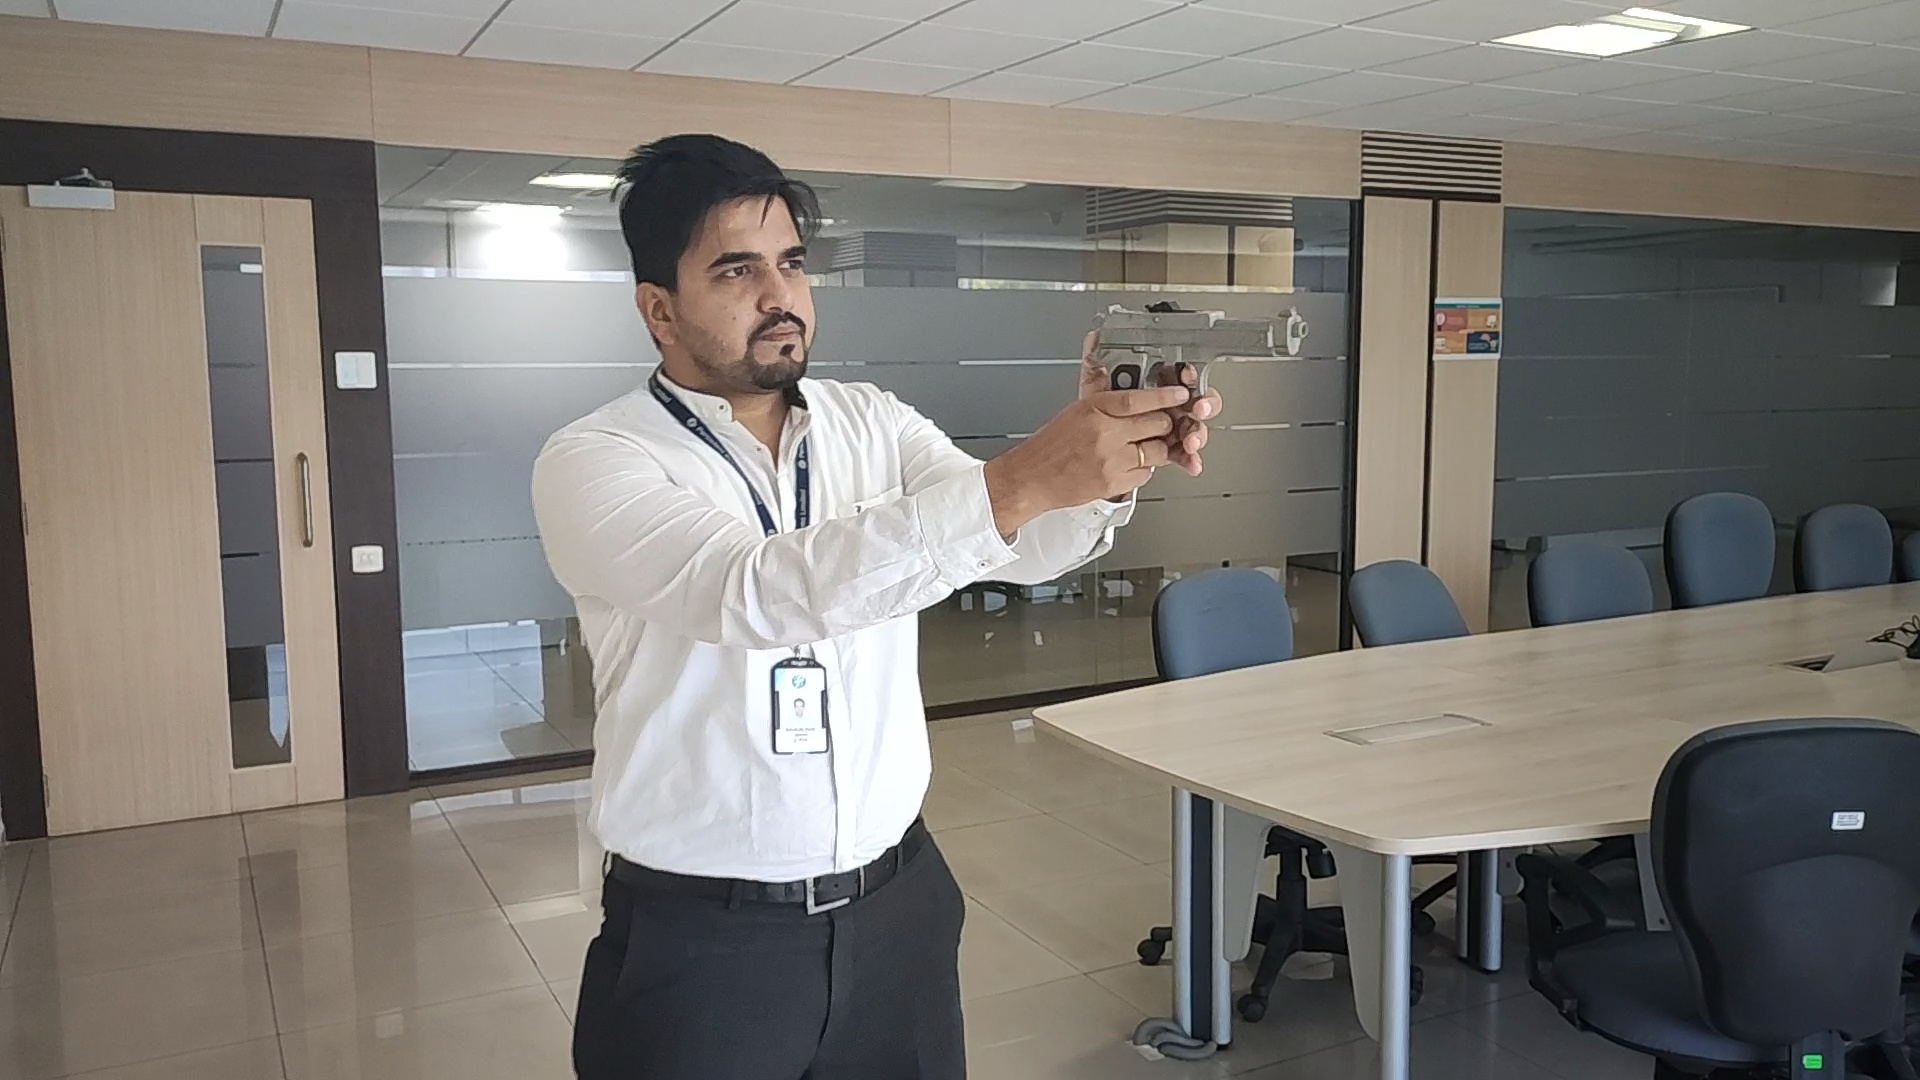gun: (1089, 305, 1309, 396)
